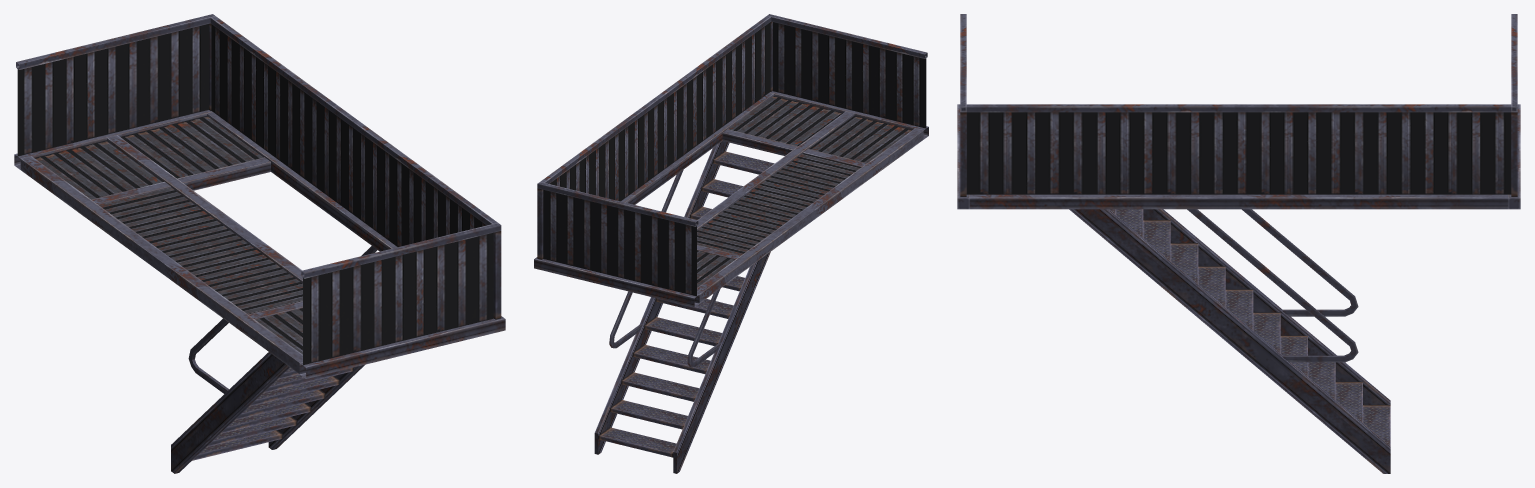
Rendered from TRF0610004.fbx.
3 renders of one model, left to right at view 1: azimuth 30°, elevation 25°; view 2: azimuth 150°, elevation 25°; view 3: azimuth 270°, elevation 25°, orthographic. The views are drawn at different scales.
Visible parts, largest first — view 1: smTRF0610004; view 2: smTRF0610004; view 3: smTRF0610004.
Part boxes in pixels (<box>): smTRF0610004: <box>14,14,505,473</box>; smTRF0610004: <box>534,14,928,473</box>; smTRF0610004: <box>957,14,1520,473</box>.
Size of what is drawn, in the model's own units: 293 by 537 by 741.
1 material, 1 textured.
